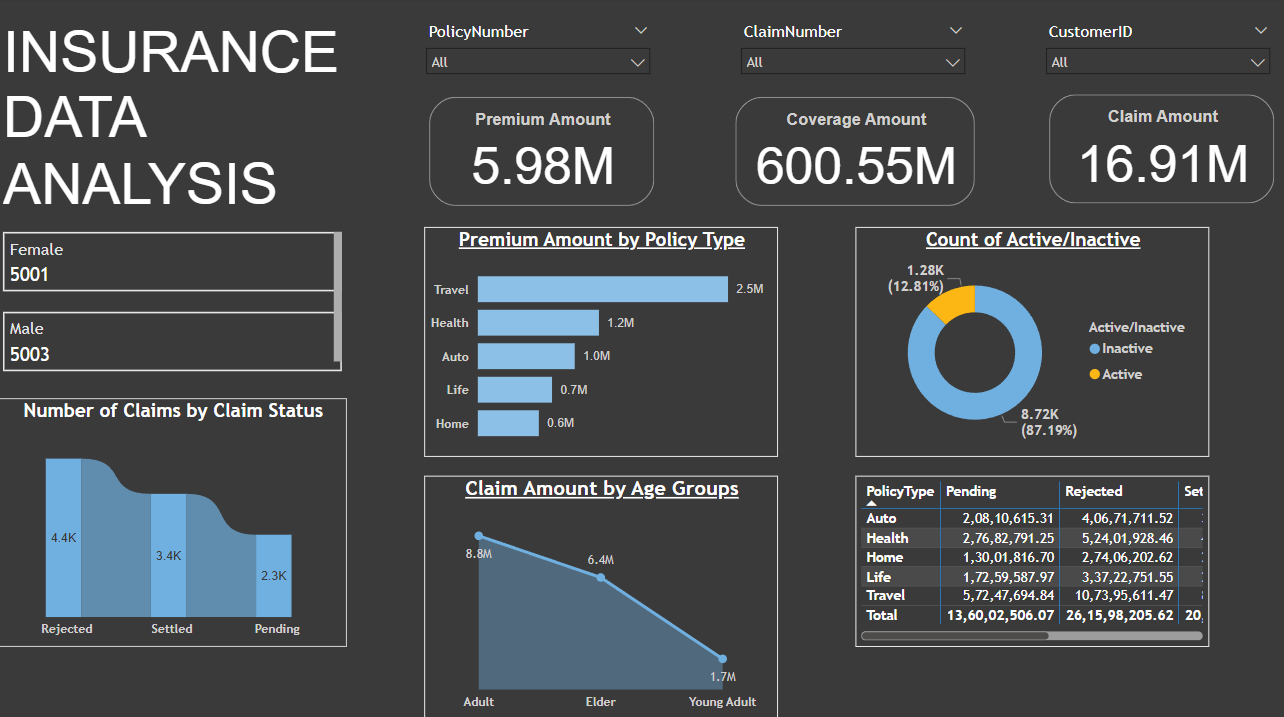

The dashboard page shown, as its layout file describes it:
{"tool":"powerbi","page":{"name":"Page 1","canvas":[1280,720],"ordinal":0},"visuals":[{"type":"slicer","fields":{"Values":["public insurance_data.PolicyNumber"]},"box":[409.8,19.6,240.5,71.2],"z":0},{"type":"slicer","fields":{"Values":["public insurance_data.CustomerID"]},"box":[1018.4,19.6,240.5,71.2],"z":1000},{"type":"slicer","fields":{"Values":["public insurance_data.ClaimNumber"]},"box":[719,19.6,240.5,73.6],"z":2000},{"type":"textbox","box":[0,17.2,342.3,208.6],"z":3000},{"type":"cardVisual","fields":{"Data":["Sum(public insurance_data.PremiumAmount)"]},"box":[418.4,93.3,231.9,117.8],"z":4000},{"type":"cardVisual","fields":{"Data":["Sum(public insurance_data.CoverageAmount)"]},"box":[719,93.3,245.4,117.8],"z":5000},{"type":"cardVisual","fields":{"Data":["Sum(public insurance_data.ClaimAmount)"]},"box":[1027,90.8,231.9,117.8],"z":6000},{"type":"multiRowCard","fields":{"Values":["public insurance_data.Gender","CountNonNull(public insurance_data.Gender)"]},"box":[0,225.8,342.3,152.1],"z":7000},{"type":"ribbonChart","title":"Number of Claims by Claim Status","fields":{"Category":["public insurance_data.ClaimStatus"],"Y":["CountNonNull(public insurance_data.ClaimStatus)"]},"box":[0,393.9,342.3,244.2],"z":8000},{"type":"barChart","title":"Premium Amount by Policy Type","fields":{"Category":["public insurance_data.PolicyType"],"Y":["Sum(public insurance_data.PremiumAmount)"]},"box":[418.4,225.8,347.2,225.8],"z":9000},{"type":"lineChart","title":"Claim Amount by Age Groups","fields":{"Category":["public insurance_data.Age Groups"],"Y":["Sum(public insurance_data.ClaimAmount)"]},"box":[418.4,469.9,347.2,239.3],"z":10000},{"type":"donutChart","title":"Count of Active/Inactive ","fields":{"Y":["CountNonNull(public insurance_data.Active/Inactive)"],"Category":["public insurance_data.Active/Inactive"]},"box":[841.7,225.8,347.2,225.8],"z":11000},{"type":"pivotTable","fields":{"Values":["Sum(public insurance_data.CoverageAmount)"],"Rows":["public insurance_data.PolicyType"],"Columns":["public insurance_data.ClaimStatus"]},"box":[841.7,469.9,347.2,168.1],"z":12000}]}

Visuals, with their boxes in screenshot pixels (x1, y1, x2, y2), scaled from the page's 1280x720 canvas onto the 1284x717 screenshot:
slicer - public insurance_data.PolicyNumber: BBox(411, 20, 652, 90)
slicer - public insurance_data.CustomerID: BBox(1022, 20, 1263, 90)
slicer - public insurance_data.ClaimNumber: BBox(721, 20, 962, 93)
textbox: BBox(0, 17, 343, 225)
cardVisual - Sum(public insurance_data.PremiumAmount): BBox(420, 93, 652, 210)
cardVisual - Sum(public insurance_data.CoverageAmount): BBox(721, 93, 967, 210)
cardVisual - Sum(public insurance_data.ClaimAmount): BBox(1030, 90, 1263, 208)
multiRowCard - public insurance_data.Gender x CountNonNull(public insurance_data.Gender): BBox(0, 225, 343, 376)
"Number of Claims by Claim Status" ribbonChart: BBox(0, 392, 343, 635)
"Premium Amount by Policy Type" barChart: BBox(420, 225, 768, 450)
"Claim Amount by Age Groups" lineChart: BBox(420, 468, 768, 706)
"Count of Active/Inactive " donutChart: BBox(844, 225, 1193, 450)
pivotTable - Sum(public insurance_data.CoverageAmount) x public insurance_data.PolicyType: BBox(844, 468, 1193, 635)
